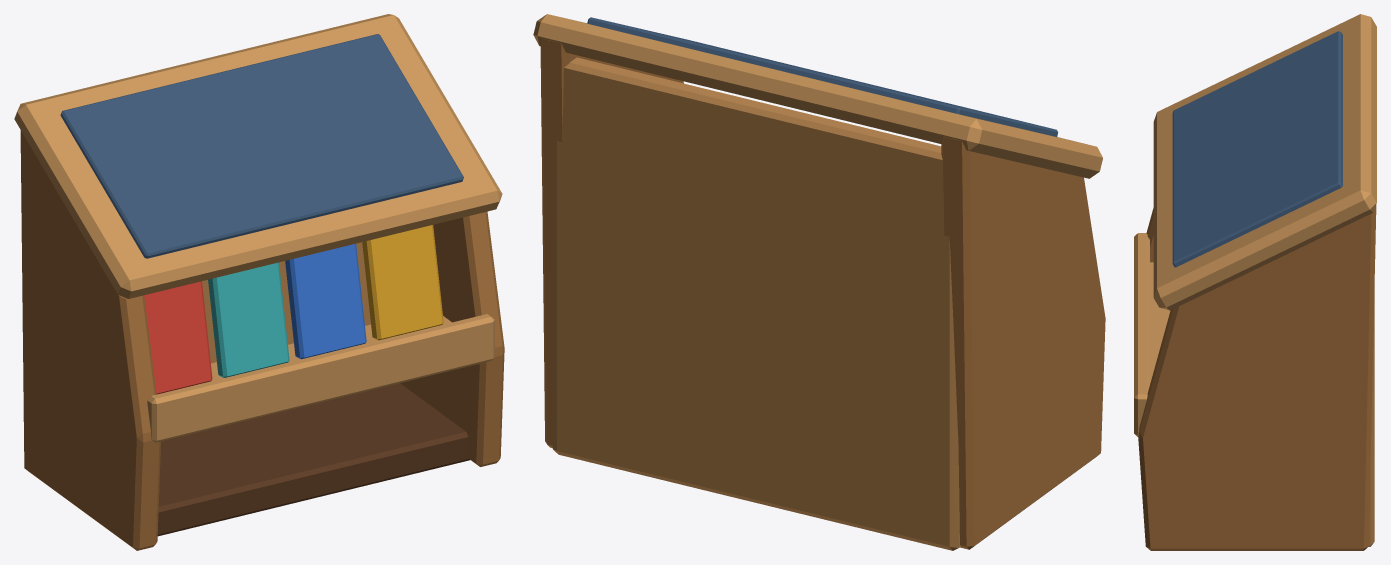
File: movie_kiosk.glb
The picture shows the model from 3 angles, left to right: view 1: azimuth 30°, elevation 25°; view 2: azimuth 150°, elevation 25°; view 3: azimuth 270°, elevation 25°; orthographic projection. The views are drawn at different scales.
Parts seen in each view (by area): view 1: movie_kiosk; view 2: movie_kiosk; view 3: movie_kiosk.
Boxes of the visible parts, x1,y1,x2,y2 form: movie_kiosk: (14, 14, 504, 550); movie_kiosk: (533, 14, 1105, 550); movie_kiosk: (1134, 14, 1376, 550).
Bounding box in the file's own units: 1.09 × 1.01 × 0.6108.
